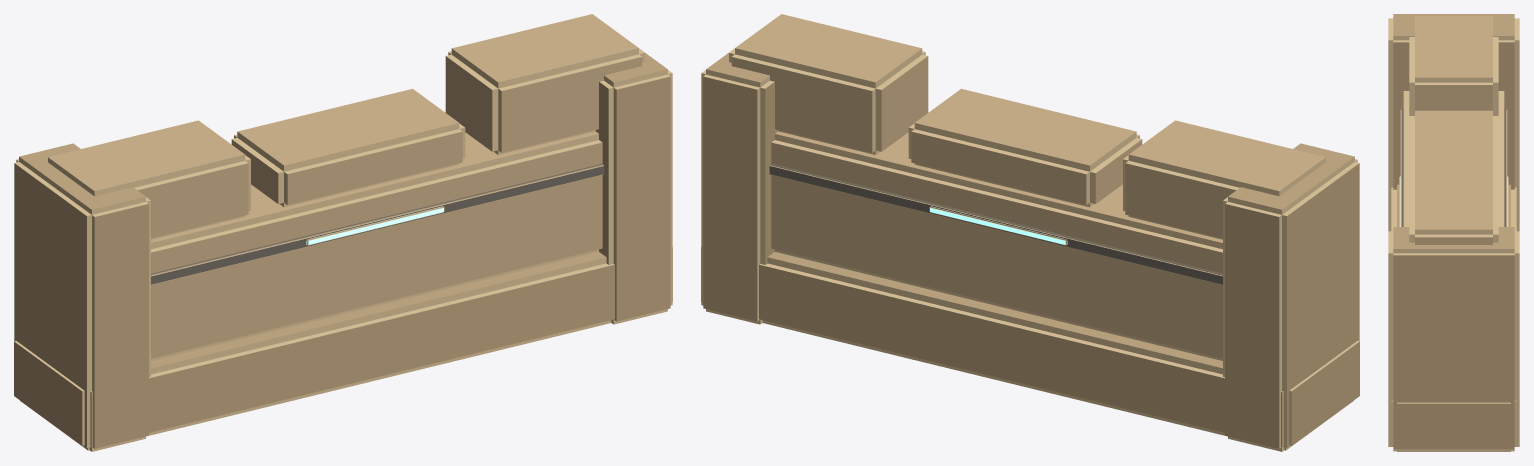
Rendered from TILE_WallStraight.glb.
3 views of the same model, side by side, from view 1: azimuth 30°, elevation 25°; view 2: azimuth 150°, elevation 25°; view 3: azimuth 270°, elevation 25° (orthographic). The views are drawn at different scales.
Visible parts, largest first — view 1: TILE_WallStraight; view 2: TILE_WallStraight; view 3: TILE_WallStraight.
Boxes of the visible parts, x1=… form: TILE_WallStraight: x1=14, y1=14, x2=672, y2=451; TILE_WallStraight: x1=701, y1=14, x2=1359, y2=451; TILE_WallStraight: x1=1388, y1=14, x2=1519, y2=451.
Size of the model in its own units: 6 by 2.5 by 1.38.
